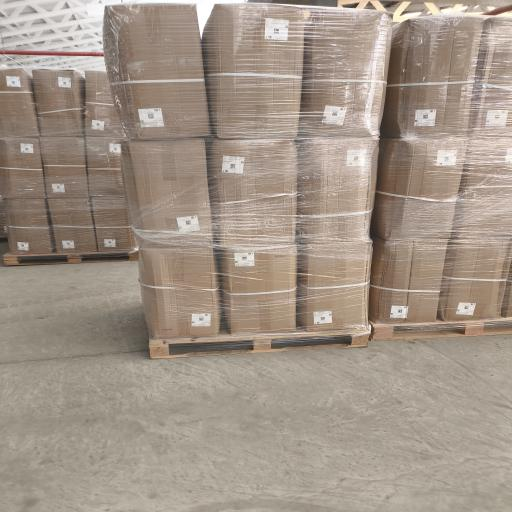pallet: (150, 331, 368, 359), (370, 318, 511, 340), (4, 250, 138, 265), (0, 236, 8, 243)
